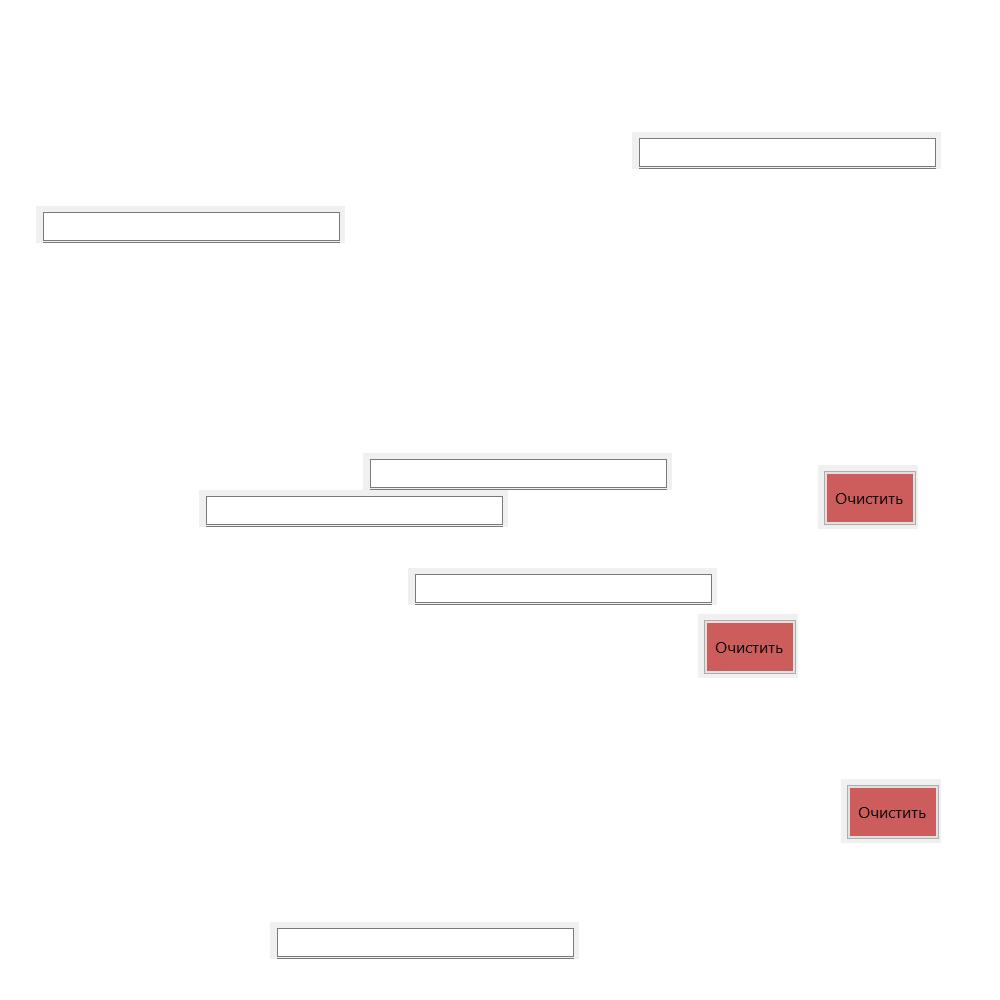Button: (698, 614, 798, 678), (841, 779, 941, 843), (818, 465, 918, 529)
EditText-: (36, 206, 345, 243), (199, 490, 508, 527), (632, 132, 941, 169), (270, 922, 579, 959), (363, 453, 672, 490), (408, 568, 717, 605)
